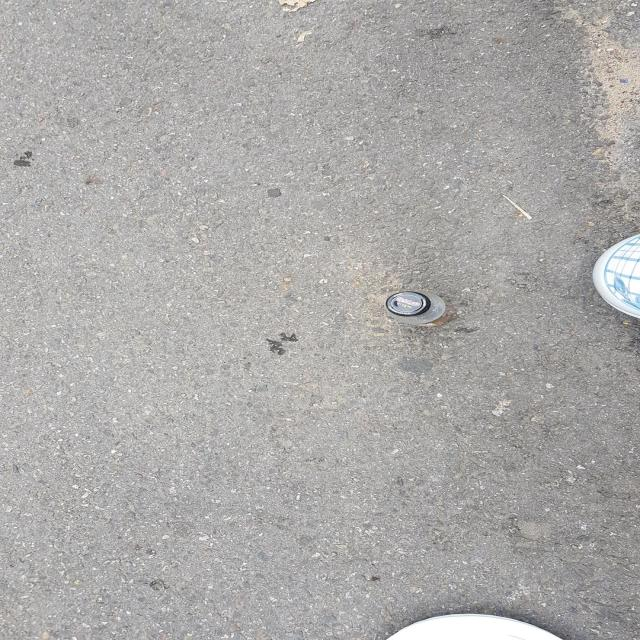glass: (386, 291, 446, 326)
